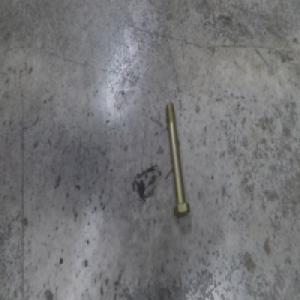Bolt: (164, 105, 189, 218)
